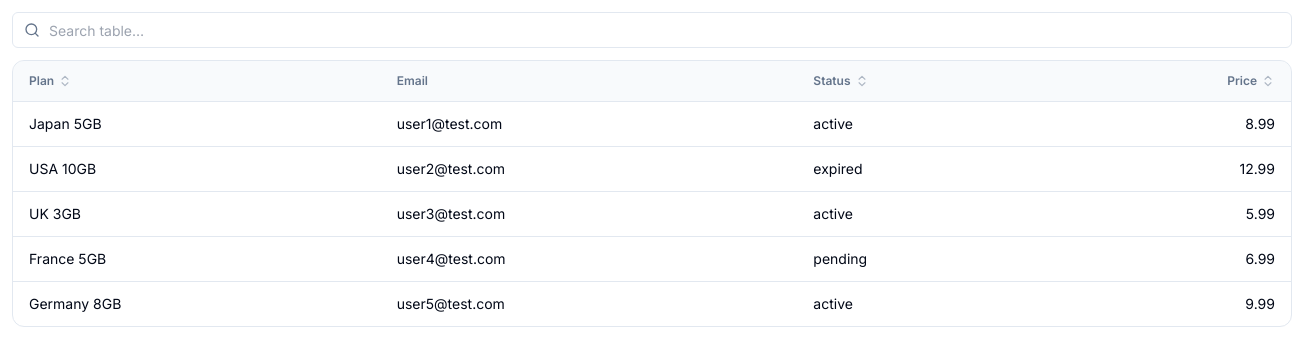
Scenario: DataTable › shows no results message when search yields nothing
Type "xyznonexistent" into the search field at (652, 30), box [12, 12, 1292, 48]
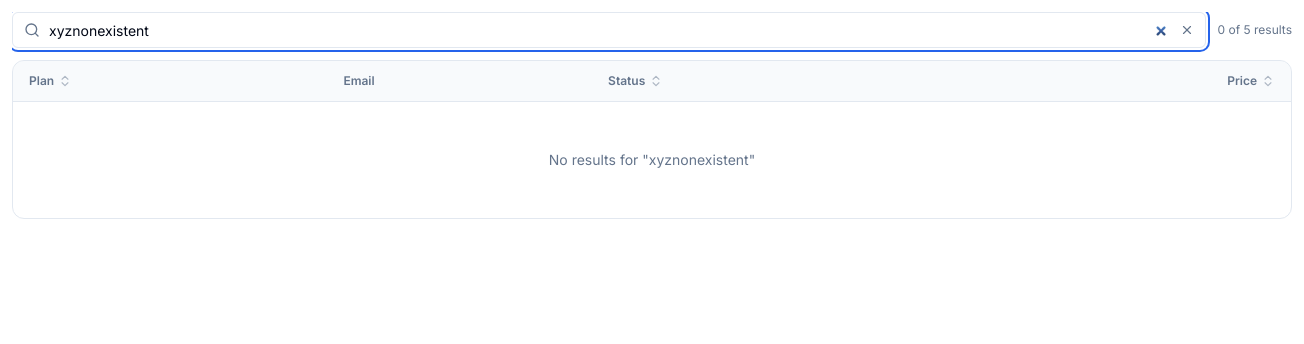
Expected: the text "No results for \"xyznonexistent\"" is shown, [13, 102, 1291, 218]
